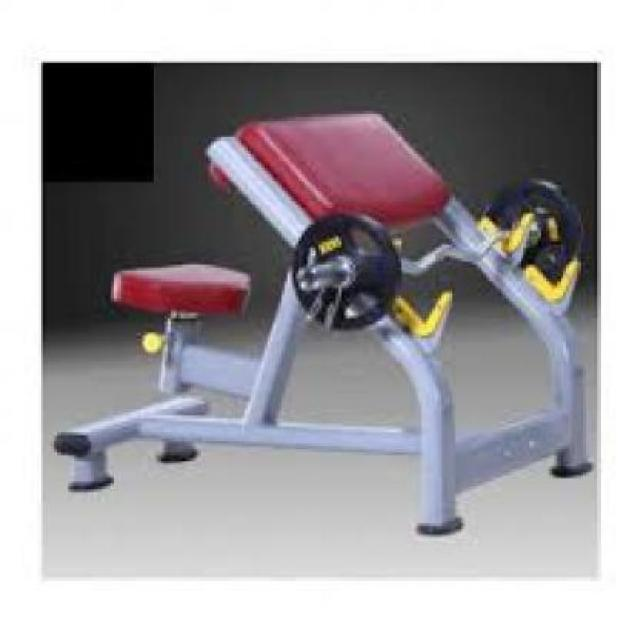arm curl machine: (52, 109, 592, 537)
